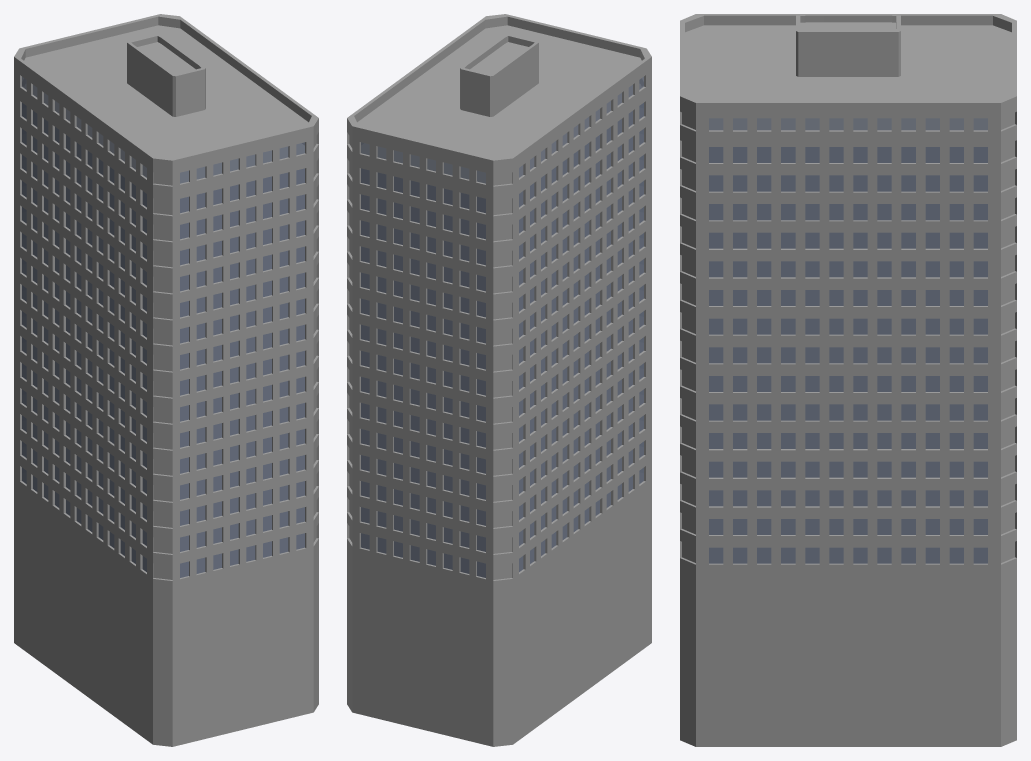
Rendered from hotel.fbx.
3 renders of one model, left to right at view 1: azimuth 30°, elevation 25°; view 2: azimuth 150°, elevation 25°; view 3: azimuth 270°, elevation 25°, orthographic. The views are drawn at different scales.
Visible parts, largest first — view 1: pCube13; view 2: pCube13; view 3: pCube13.
Boxes of the visible parts, x1=… form: pCube13: x1=14, y1=14, x2=318, y2=746; pCube13: x1=347, y1=14, x2=651, y2=746; pCube13: x1=680, y1=14, x2=1016, y2=746.
Size of the model in its own units: 10 by 35.6 by 16.
